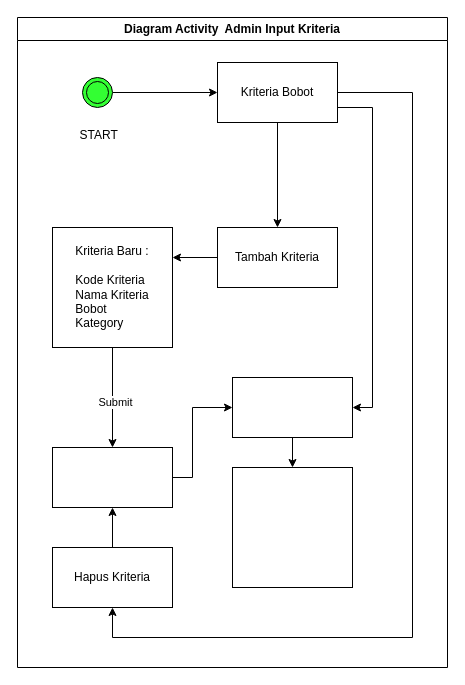
Some shapes in this 465 by 685 pixel diagram are drawn without their labels. Each missing label, with the box of its shape:
Edit Kriteria: (232, 376, 352, 438)
Kriteria : Kode Kriteria Nama Kriteria Bobot Kategory: (232, 466, 352, 588)
Simpan ke Database: (52, 446, 172, 508)
